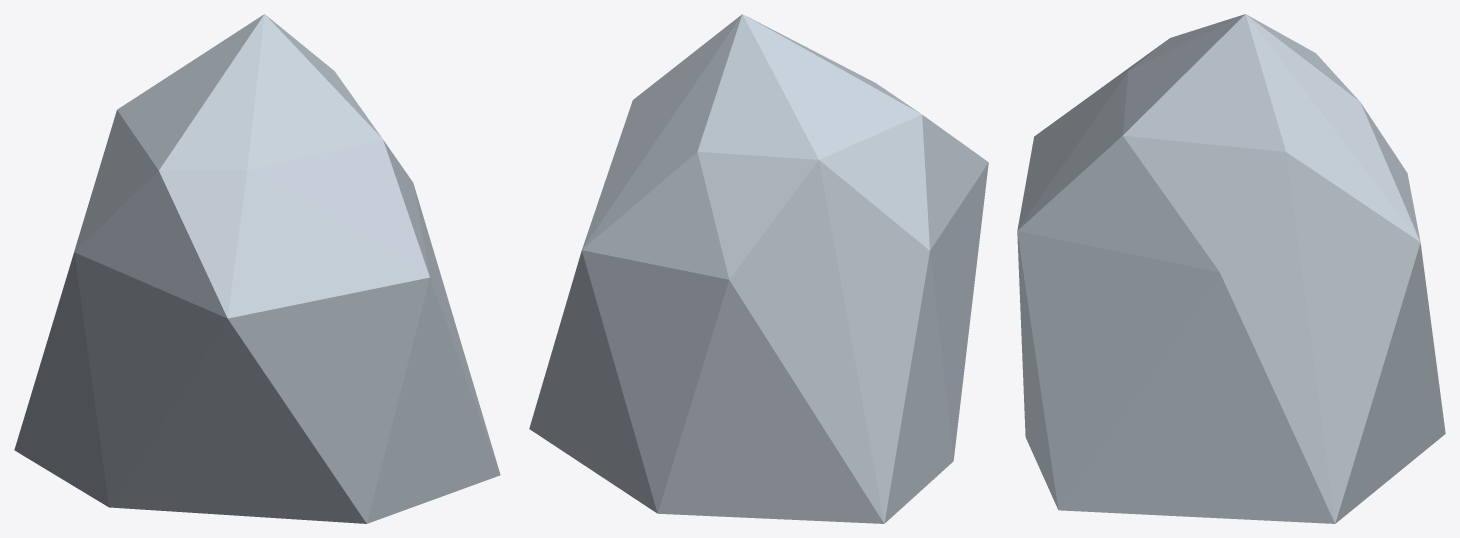
Rendered from crystal_a.glb.
The picture shows the model from 3 angles, left to right: view 1: azimuth 30°, elevation 25°; view 2: azimuth 150°, elevation 25°; view 3: azimuth 270°, elevation 25°; orthographic projection.
Visible parts, largest first — view 1: CrystalA; view 2: CrystalA; view 3: CrystalA.
Part boxes in pixels (left/top/right/bottom): CrystalA: left=14, top=14, right=500, bottom=523; CrystalA: left=529, top=14, right=988, bottom=523; CrystalA: left=1017, top=14, right=1445, bottom=523.
Size of the model in its own units: 0.8987 by 1 by 0.9094.
